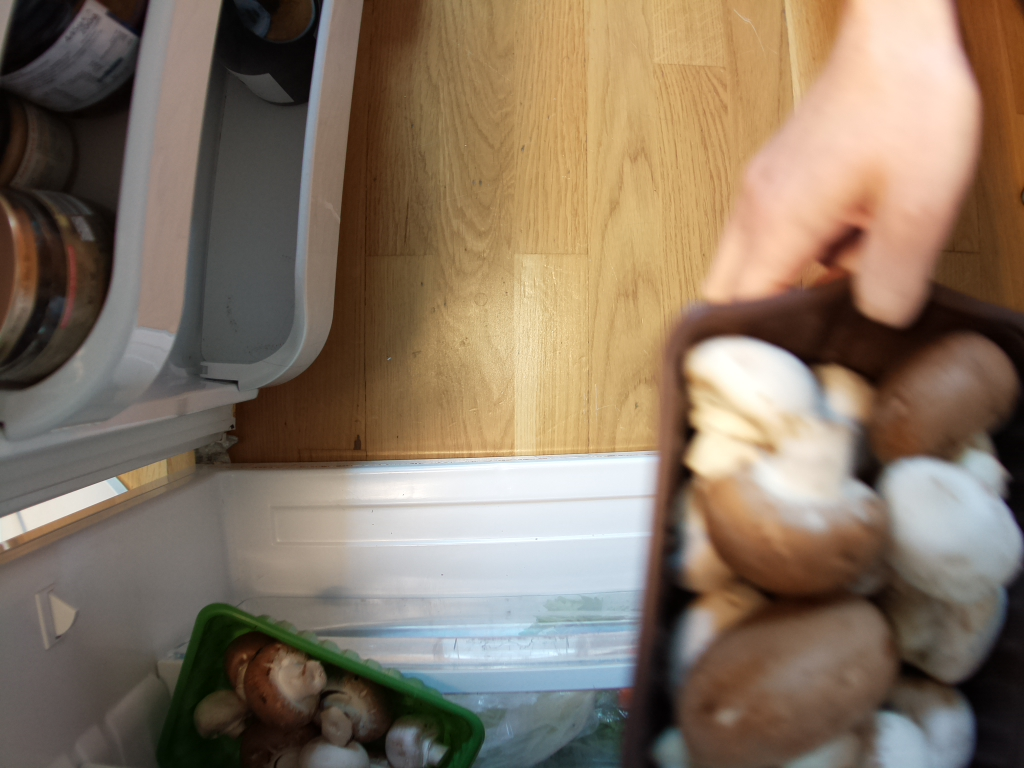mushrooms: (643, 321, 1020, 768), (178, 623, 476, 768)
